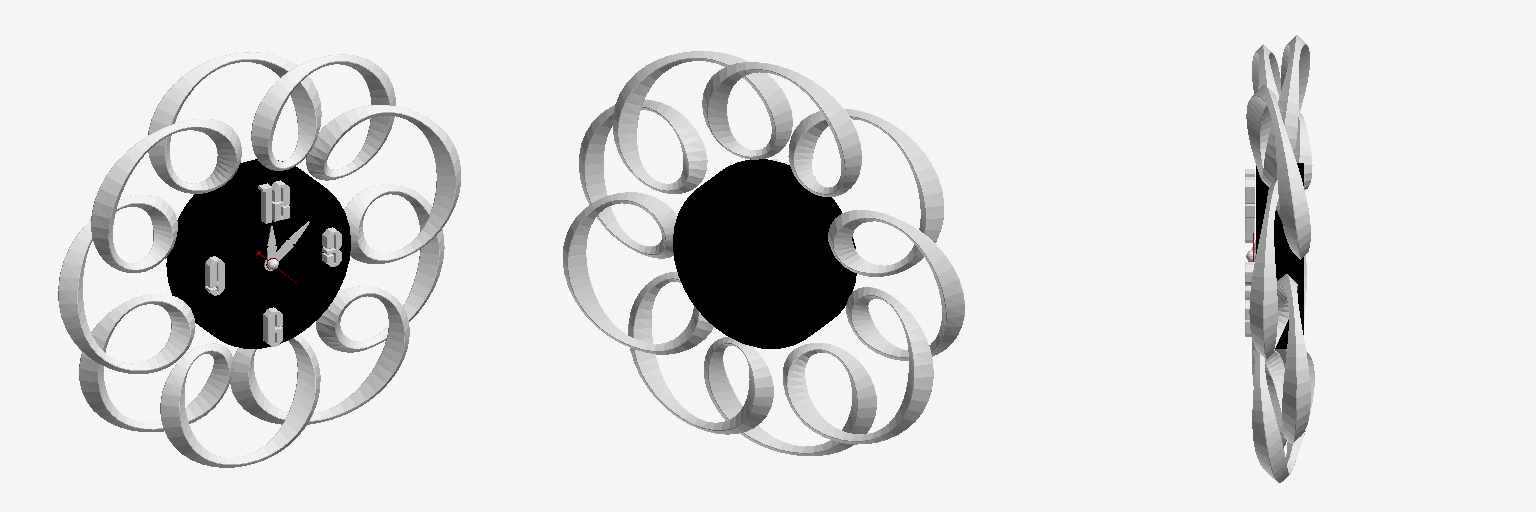
File: clock01_BLENDER.obj
3 renders of one model, left to right at view 1: azimuth 30°, elevation 25°; view 2: azimuth 150°, elevation 25°; view 3: azimuth 270°, elevation 25°, orthographic.
Visible parts, largest first — view 1: clock01, clock01_face, clock01_digits; view 2: clock01, clock01_face; view 3: clock01, clock01_face, clock01_digits.
Part boxes in pixels (x1,y1,x2,y2): clock01: (58,52,460,467); clock01_face: (166,159,350,348); clock01_digits: (205,180,341,346); clock01: (563,51,964,455); clock01_face: (673,159,856,348); clock01: (1246,35,1314,482); clock01_face: (1256,163,1303,348); clock01_digits: (1245,169,1254,336).
Bounding box in the file's own units: 1.64 × 1.6 × 0.2518.